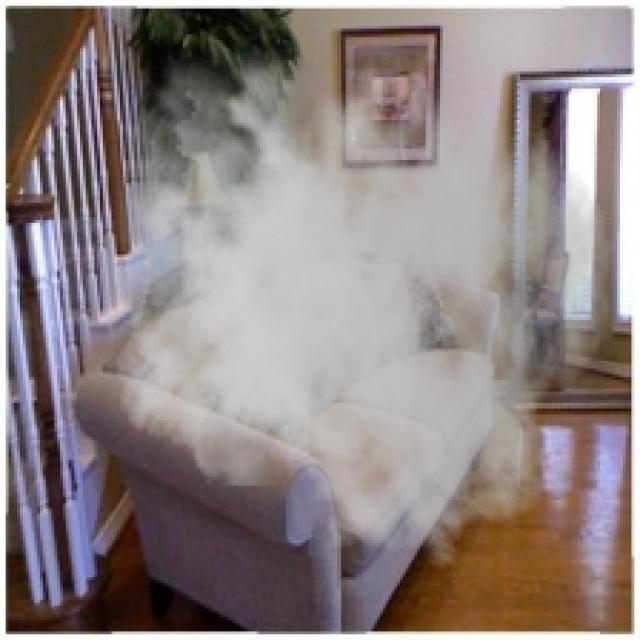Smoke: (100, 22, 614, 568)
